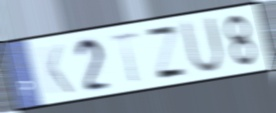2: (74, 33, 117, 97)
8: (223, 11, 259, 70)
K: (35, 42, 76, 97)
T: (109, 28, 141, 86)
U: (178, 15, 226, 77)
Z: (143, 24, 191, 82)
